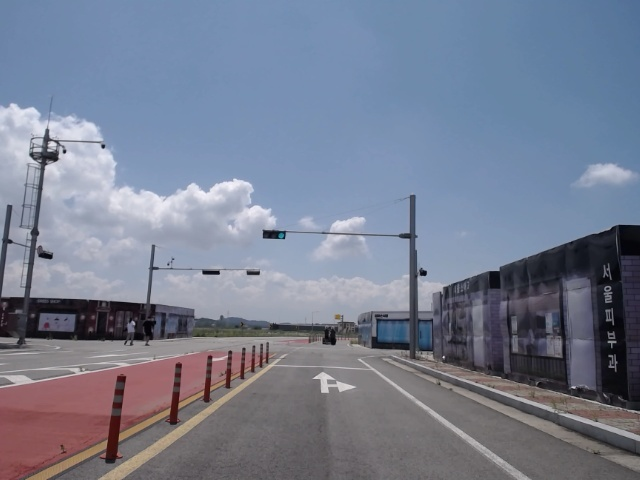green_3: (264, 230, 286, 239)
